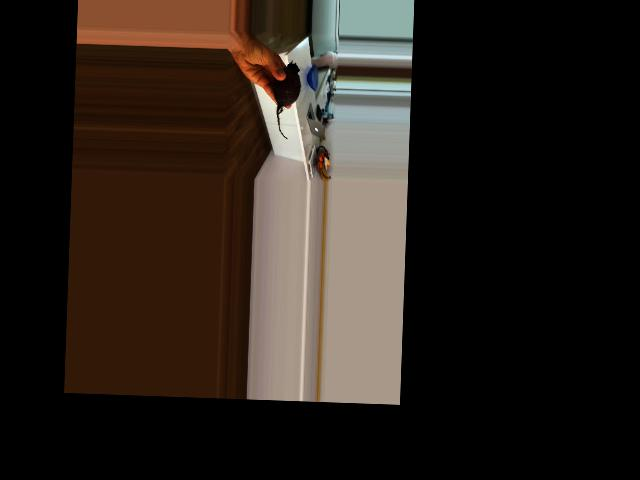beet: (271, 60, 301, 139)
